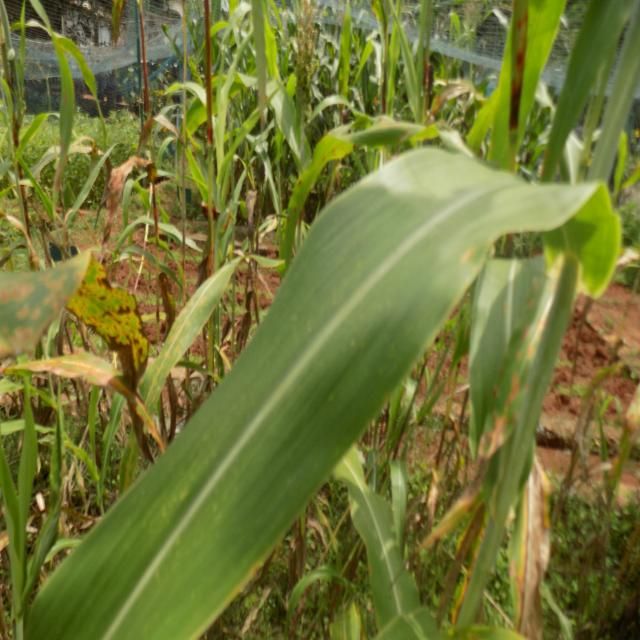millet_healthy: (15, 149, 622, 640)
